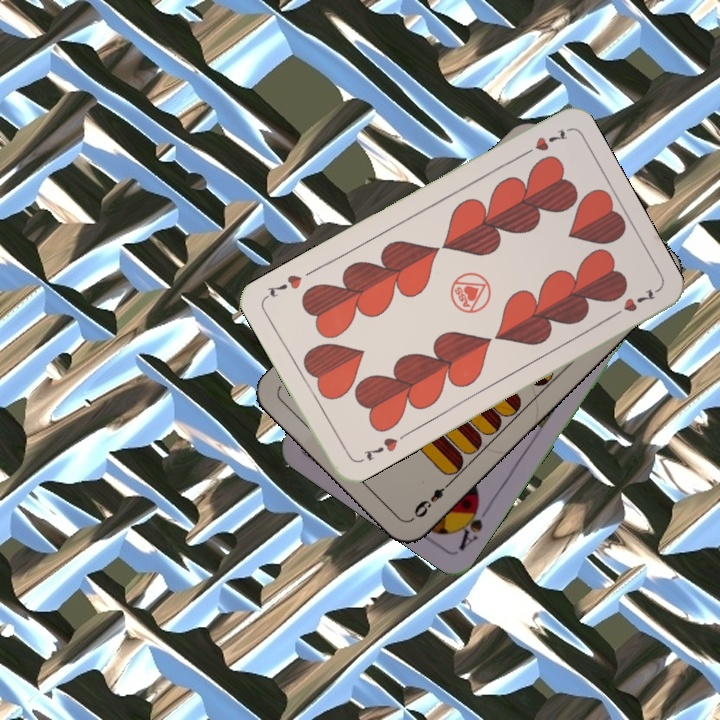E9: (409, 476, 455, 521)
H7: (516, 125, 570, 160), (360, 433, 400, 463)
SA: (452, 494, 486, 553)
